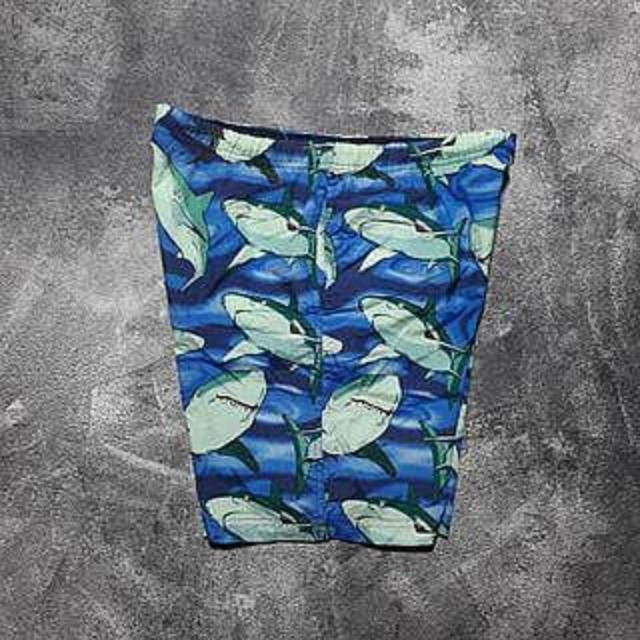SHORT: (121, 90, 533, 562)
